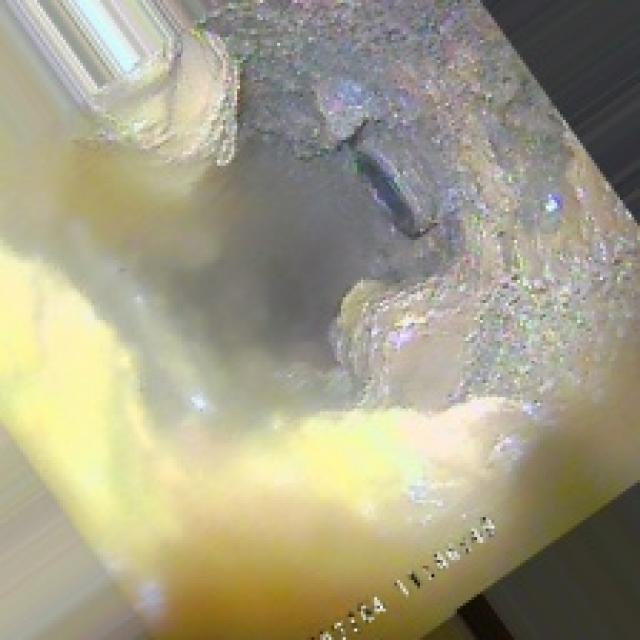encrustation: (260, 9, 560, 374)
ferrule: (354, 117, 437, 232)
